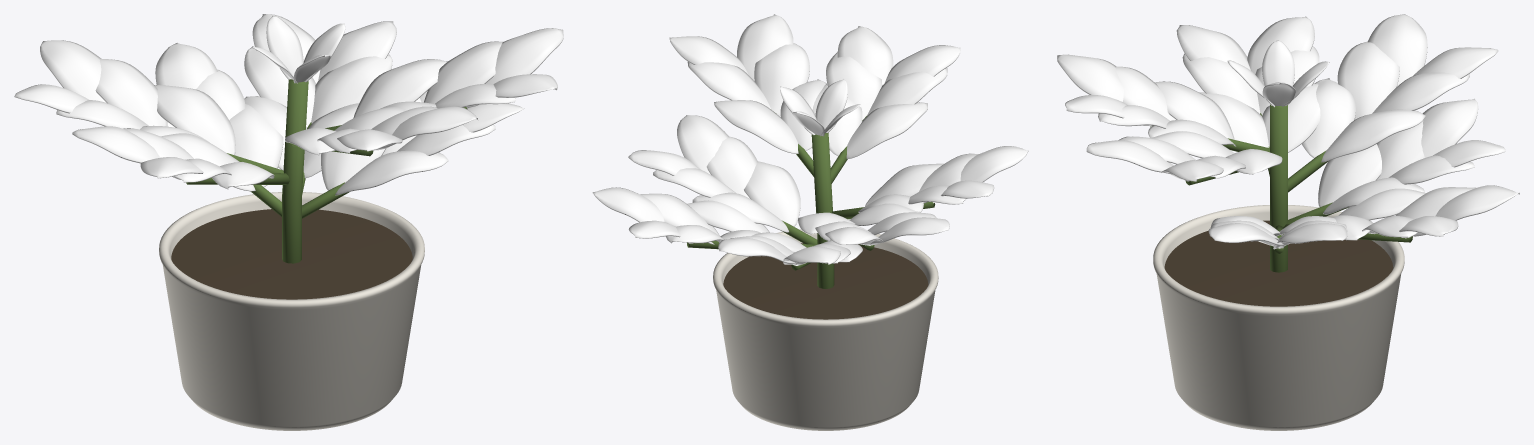
Rendered from plant-jade-detailed.glb.
The picture shows the model from 3 angles, left to right: view 1: azimuth 30°, elevation 25°; view 2: azimuth 150°, elevation 25°; view 3: azimuth 270°, elevation 25°; orthographic projection. The views are drawn at different scales.
Visible parts, largest first — view 1: Rounded ceramic planter, Recessed potting soil, Jade main stem, Fleshy rounded jade leaf.006, Fleshy rounded jade leaf.008, Fleshy rounded jade leaf.020, Fleshy rounded jade leaf.031, Fleshy rounded jade leaf.010, Fleshy rounded jade leaf.033, Fleshy rounded jade leaf.035, Fleshy rounded jade leaf, Fleshy rounded jade leaf.036 (+29 smaller); view 2: Rounded ceramic planter, Recessed potting soil, Fleshy rounded jade leaf.032, Fleshy rounded jade leaf, Fleshy rounded jade leaf.031, Fleshy rounded jade leaf.012, Fleshy rounded jade leaf.034, Fleshy rounded jade leaf.033, Jade main stem, Fleshy rounded jade leaf.004, Fleshy rounded jade leaf.017, Fleshy rounded jade leaf.002 (+31 smaller); view 3: Rounded ceramic planter, Recessed potting soil, Fleshy rounded jade leaf.009, Fleshy rounded jade leaf.006, Fleshy rounded jade leaf.011, Jade main stem, Fleshy rounded jade leaf.037, Fleshy rounded jade leaf.007, Fleshy rounded jade leaf.041, Fleshy rounded jade leaf.012, Fleshy rounded jade leaf.027, Fleshy rounded jade leaf.008 (+34 smaller).
Part boxes in pixels (x1,y1,x2,y2): Rounded ceramic planter: (159,192,424,430); Recessed potting soil: (171,209,412,299); Jade main stem: (282,79,308,263); Fleshy rounded jade leaf.006: (154,85,235,155); Fleshy rounded jade leaf.008: (95,59,167,126); Fleshy rounded jade leaf.020: (311,54,392,123); Fleshy rounded jade leaf.031: (353,59,446,117); Fleshy rounded jade leaf.010: (40,40,106,102); Fleshy rounded jade leaf.033: (424,41,503,103); Fleshy rounded jade leaf.035: (466,28,563,108); Fleshy rounded jade leaf: (335,150,448,195); Fleshy rounded jade leaf.036: (229,104,283,186); Rounded ceramic planter: (713,229,938,430); Recessed potting soil: (723,243,928,319); Fleshy rounded jade leaf.032: (754,43,809,116); Fleshy rounded jade leaf: (744,161,800,226); Fleshy rounded jade leaf.031: (714,100,798,153); Fleshy rounded jade leaf.012: (846,102,927,158); Fleshy rounded jade leaf.034: (737,14,793,80); Fleshy rounded jade leaf.033: (687,62,770,108); Jade main stem: (811,133,834,288); Fleshy rounded jade leaf.004: (677,115,729,174); Fleshy rounded jade leaf.017: (837,26,893,85); Fleshy rounded jade leaf.002: (706,136,758,198); Rounded ceramic planter: (1153,205,1404,430); Recessed potting soil: (1164,220,1393,306); Fleshy rounded jade leaf.009: (1337,41,1399,119); Fleshy rounded jade leaf.006: (1321,109,1425,162); Fleshy rounded jade leaf.011: (1368,14,1427,86); Jade main stem: (1270,104,1287,272); Fleshy rounded jade leaf.037: (1318,144,1381,206); Fleshy rounded jade leaf.007: (1301,78,1355,158); Fleshy rounded jade leaf.041: (1421,98,1478,157); Fleshy rounded jade leaf.012: (1155,81,1234,139); Fleshy rounded jade leaf.027: (1182,53,1260,113); Fleshy rounded jade leaf.008: (1372,72,1469,113).
Bounding box in the file's own units: 0.6572 × 0.5 × 0.6334.
